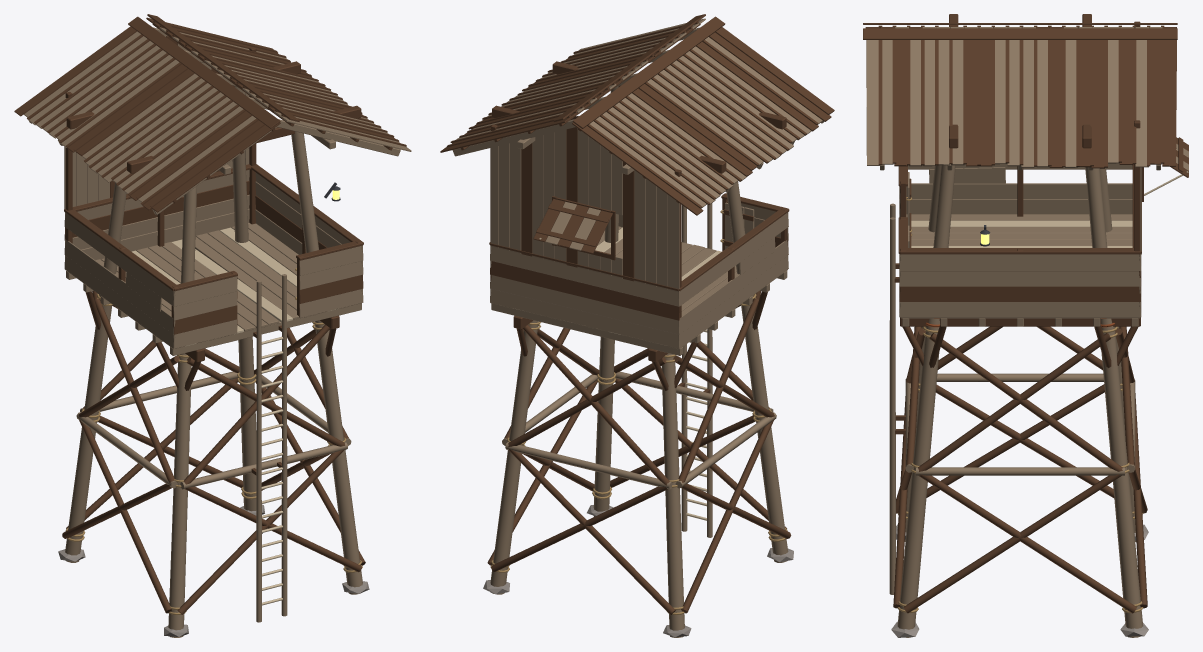
File: deco_watchtower_wood.fbx
3 views of the same model, side by side, from view 1: azimuth 30°, elevation 25°; view 2: azimuth 150°, elevation 25°; view 3: azimuth 270°, elevation 25° (orthographic). The views are drawn at different scales.
Parts seen in each view (by area): view 1: Watchtower_Wood_RoofBoards, Watchtower_Wood_Walls, Watchtower_Wood_Bracing, Watchtower_Wood_Posts, Watchtower_Wood_Deck, Watchtower_Wood_Ladder, Watchtower_Wood_RoofFrame; view 2: Watchtower_Wood_Walls, Watchtower_Wood_RoofBoards, Watchtower_Wood_Bracing, Watchtower_Wood_Posts, Watchtower_Wood_Deck, Watchtower_Wood_Shutter, Watchtower_Wood_Ladder, Watchtower_Wood_RoofFrame, Watchtower_Wood_GateL; view 3: Watchtower_Wood_RoofBoards, Watchtower_Wood_Walls, Watchtower_Wood_Bracing, Watchtower_Wood_Posts, Watchtower_Wood_Deck, Watchtower_Wood_Ladder, Watchtower_Wood_RoofFrame, Watchtower_Wood_Shutter.
Part boxes in pixels (x1=…): Watchtower_Wood_RoofBoards: x1=14, y1=14, x2=411, y2=212; Watchtower_Wood_Walls: x1=64, y1=36, x2=363, y2=348; Watchtower_Wood_Bracing: x1=62, y1=291, x2=365, y2=614; Watchtower_Wood_Posts: x1=58, y1=86, x2=369, y2=637; Watchtower_Wood_Deck: x1=65, y1=223, x2=361, y2=362; Watchtower_Wood_Ladder: x1=251, y1=274, x2=287, y2=622; Watchtower_Wood_RoofFrame: x1=28, y1=24, x2=400, y2=215; Watchtower_Wood_Walls: x1=489, y1=116, x2=789, y2=348; Watchtower_Wood_RoofBoards: x1=440, y1=14, x2=834, y2=215; Watchtower_Wood_Bracing: x1=487, y1=291, x2=791, y2=614; Watchtower_Wood_Posts: x1=483, y1=86, x2=793, y2=637; Watchtower_Wood_Deck: x1=490, y1=226, x2=787, y2=362; Watchtower_Wood_Shutter: x1=533, y1=199, x2=612, y2=253; Watchtower_Wood_Ladder: x1=678, y1=203, x2=712, y2=537; Watchtower_Wood_RoofFrame: x1=452, y1=24, x2=823, y2=203; Watchtower_Wood_GateL: x1=720, y1=202, x2=754, y2=248; Watchtower_Wood_RoofBoards: x1=863, y1=23, x2=1177, y2=168; Watchtower_Wood_Walls: x1=898, y1=21, x2=1143, y2=317; Watchtower_Wood_Bracing: x1=893, y1=318, x2=1147, y2=613; Watchtower_Wood_Posts: x1=891, y1=165, x2=1148, y2=637; Watchtower_Wood_Deck: x1=900, y1=214, x2=1140, y2=326; Watchtower_Wood_Ladder: x1=889, y1=203, x2=905, y2=594; Watchtower_Wood_RoofFrame: x1=880, y1=14, x2=1160, y2=170; Watchtower_Wood_Shutter: x1=1144, y1=137, x2=1188, y2=195.
Bounding box in the file's own units: 567 × 1054 × 554.
